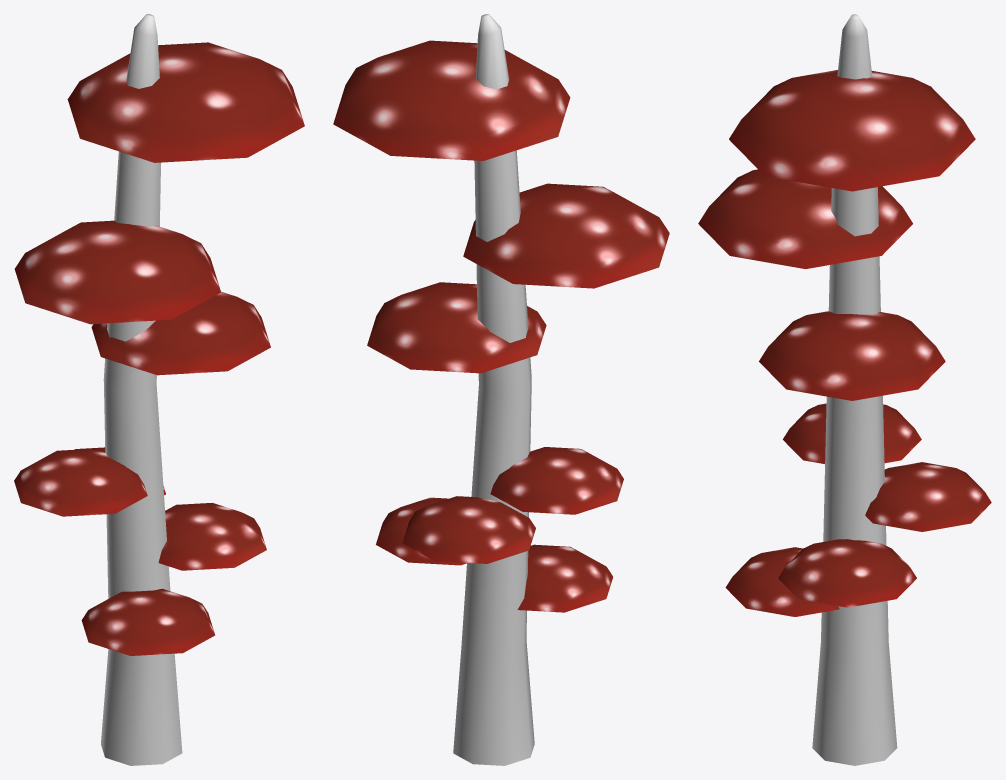
File: MushroomTree1.fbx
3 renders of one model, left to right at view 1: azimuth 30°, elevation 25°; view 2: azimuth 150°, elevation 25°; view 3: azimuth 270°, elevation 25°, orthographic.
Visible parts, largest first — view 1: Circle; view 2: Circle; view 3: Circle.
Part boxes in pixels (x1,y1,x2,y2): Circle: (14, 14, 304, 765); Circle: (333, 14, 669, 765); Circle: (698, 14, 991, 765).
Bounding box in the file's own units: 1519 × 3657 × 1322.
